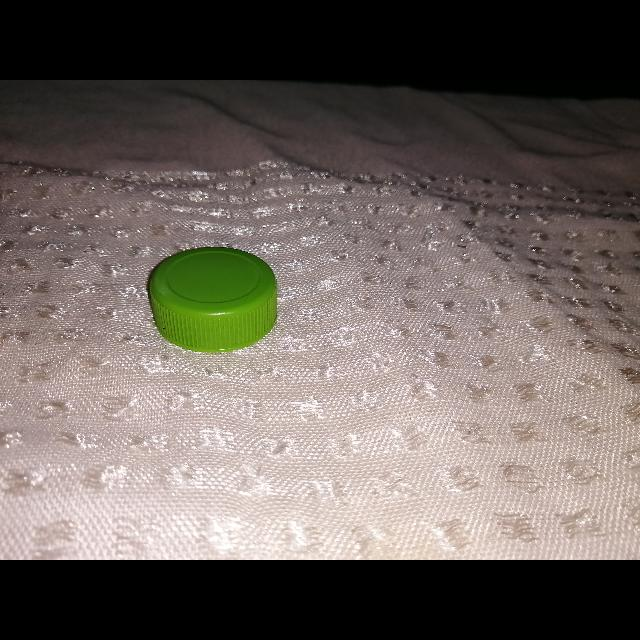plastic_bottle_cap: (149, 246, 279, 354)
